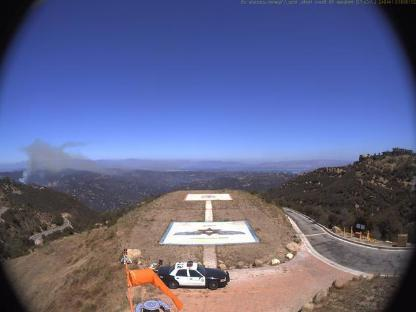smoke: (17, 136, 109, 187)
